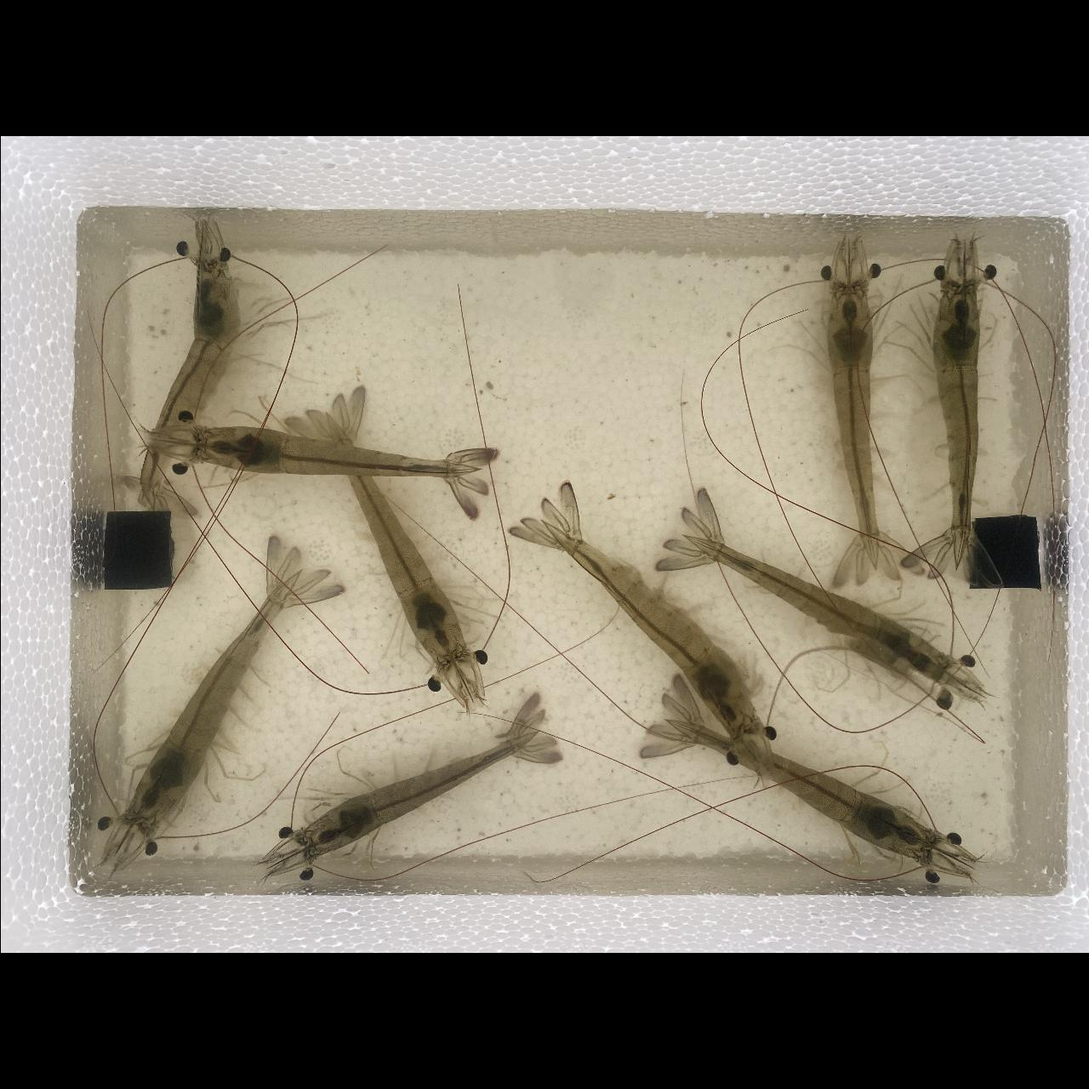box: (100, 510, 172, 590), (970, 516, 1040, 589)
top_shrimp: (541, 524, 749, 721), (128, 579, 291, 829), (689, 533, 946, 679), (323, 410, 466, 660), (682, 721, 929, 856), (305, 732, 529, 854), (136, 267, 237, 492), (827, 282, 875, 558), (196, 429, 475, 475), (934, 284, 978, 544)
